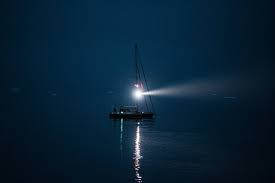boat: (110, 42, 157, 119)
